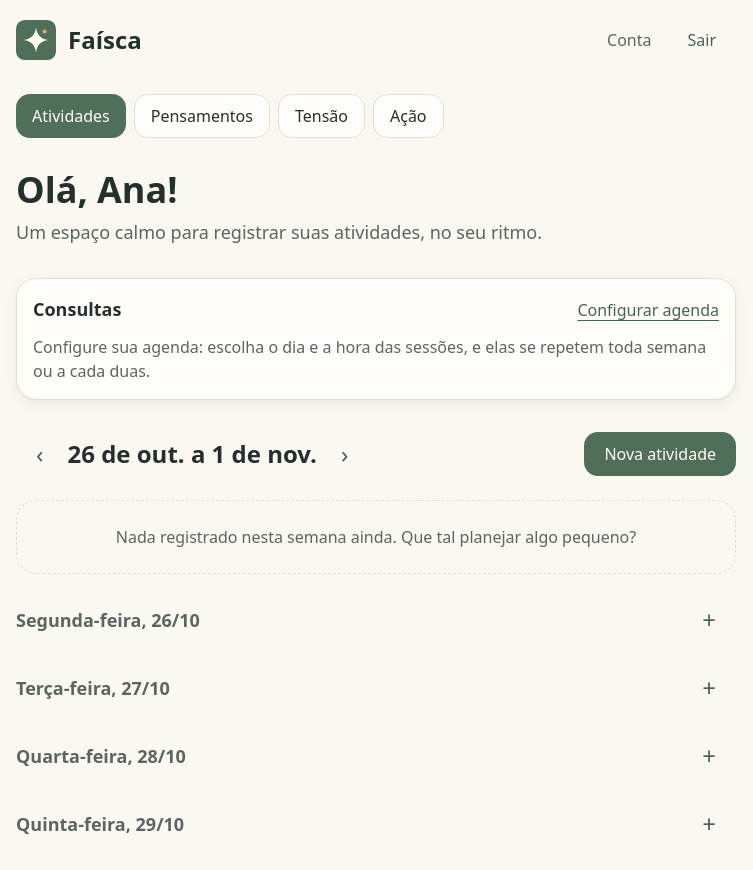
/conta: minha terapeuta › o link "Conta" no topo leva para a tela
The width and height of the screenshot is (753, 870).
Click the link "Conta".
click(629, 40)  # box [607,29,652,51]
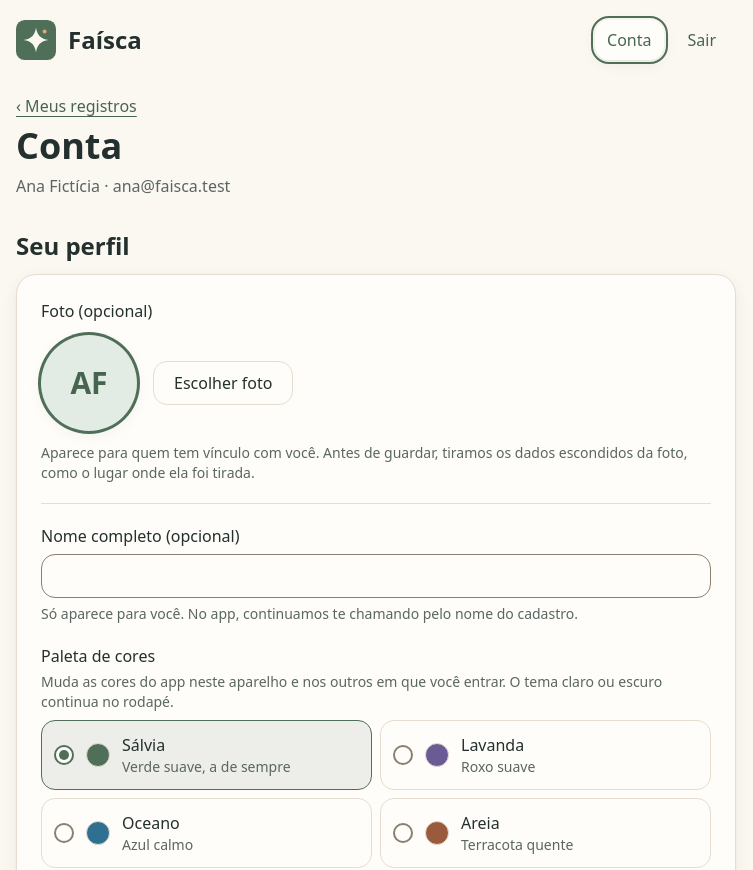
Now the heading "Conta" is shown, box [16,121,122,170]
